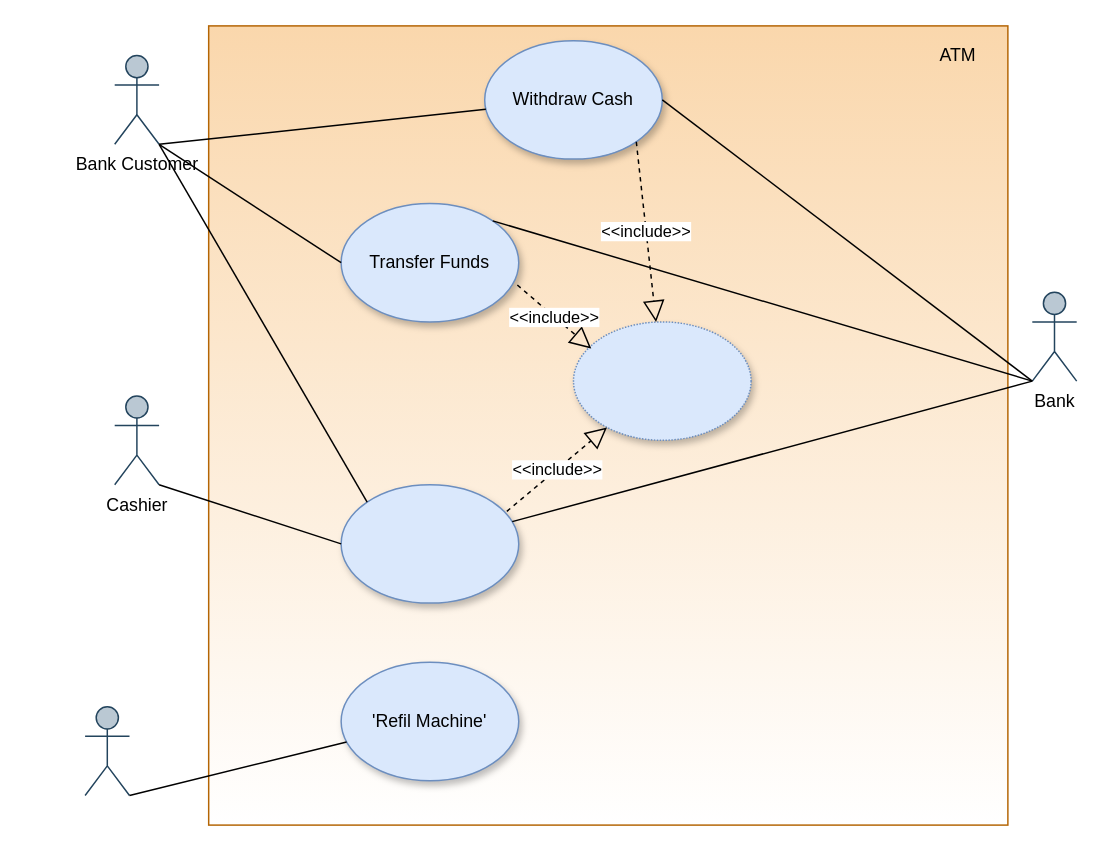
This 1103x852 diagram has some shape labels left out. The centre of each missing label's shape, as x and y in pixels:
"Deposit Funds" goes at point (431, 545).
"Maintenance Person" goes at point (107, 750).
"Validate User" goes at point (663, 382).
